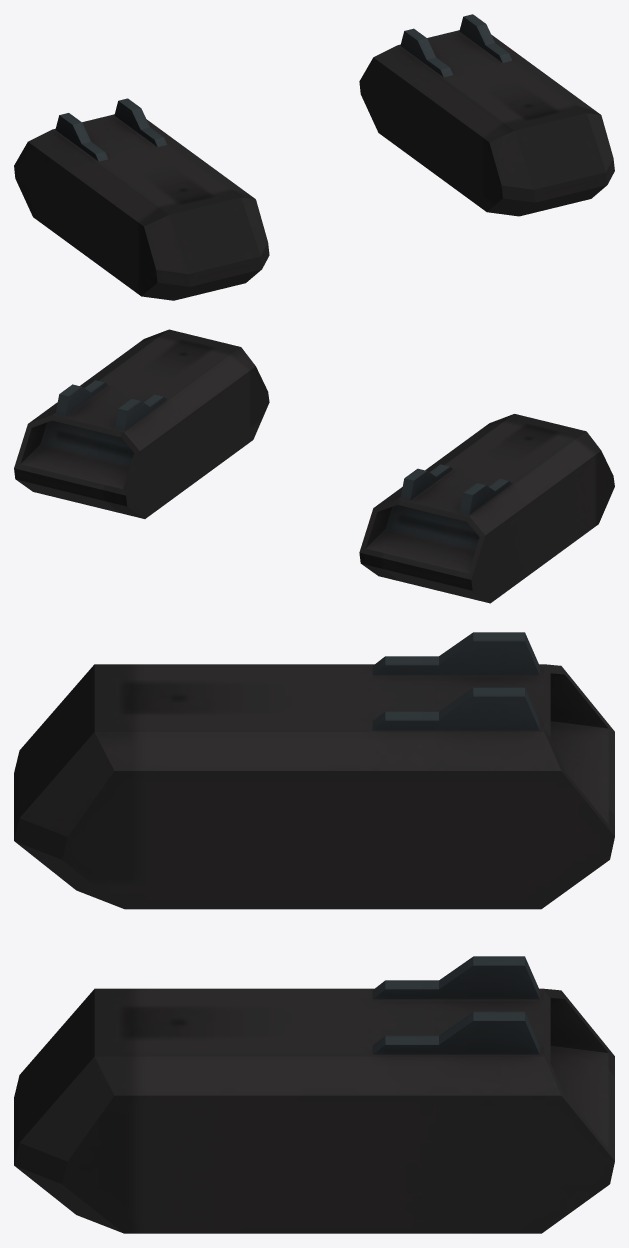
The model's file is Mod-N_blue.FBX.
3 renders of one model, top to bottom at view 1: azimuth 30°, elevation 25°; view 2: azimuth 150°, elevation 25°; view 3: azimuth 270°, elevation 25°, orthographic. The views are drawn at different scales.
Visible parts, largest first — view 1: Mod-N_Left, Mod-N_Right; view 2: Mod-N_Right, Mod-N_Left; view 3: Mod-N_Left, Mod-N_Right.
Part boxes in pixels (x1,y1,x2,y2): Mod-N_Left: (359, 14, 614, 216); Mod-N_Right: (14, 98, 269, 300); Mod-N_Right: (359, 414, 614, 603); Mod-N_Left: (14, 329, 269, 518); Mod-N_Left: (14, 956, 614, 1233); Mod-N_Right: (14, 632, 614, 909).
Bounding box in the file's own units: 3183 × 1881 × 664.
